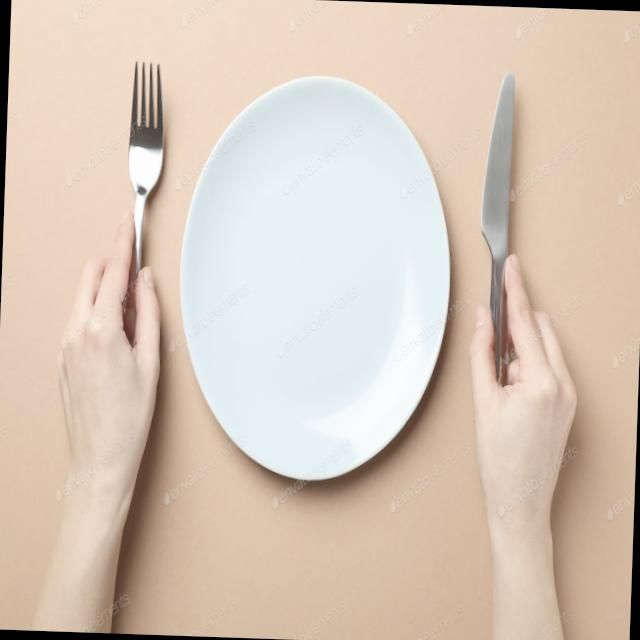fork: (118, 59, 166, 364)
